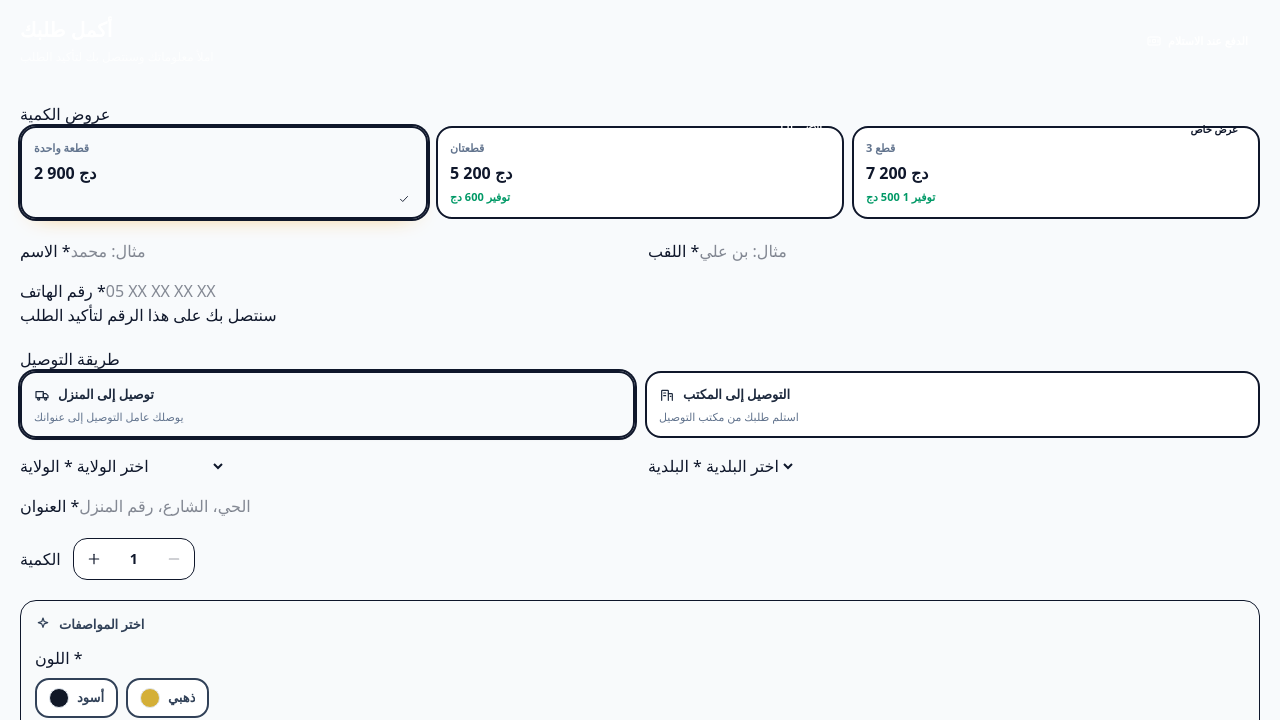
Test: SOUQ — COD form interactions › falls back to the wilaya-independent zone for a wilaya without its own fee
Select "31 - وهران" in the dropdown labelled "الولاية *" at (149, 466), box [73,454,226,478]
(page scrolled)
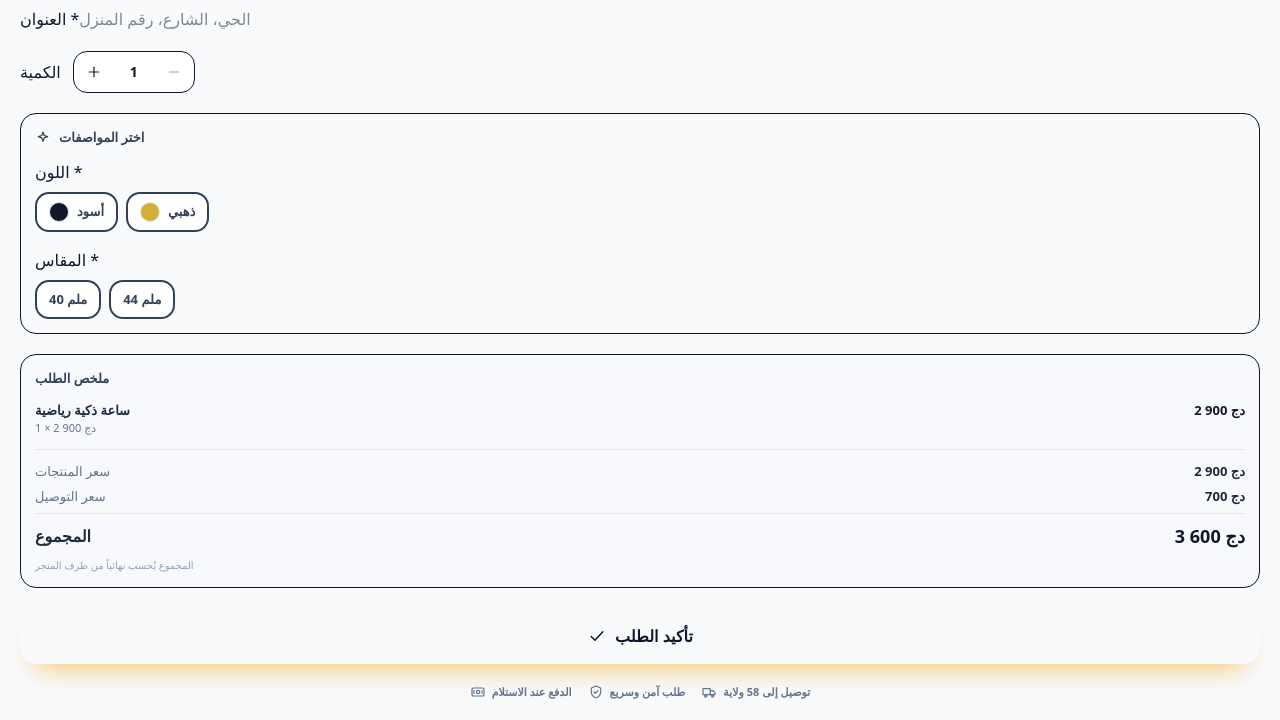
Expected: the element showing "سعر المنتجات 2 900 دج سعر التوصيل 700 دج المجموع 3 600 دج" is shown, [35,449,1245,550]
